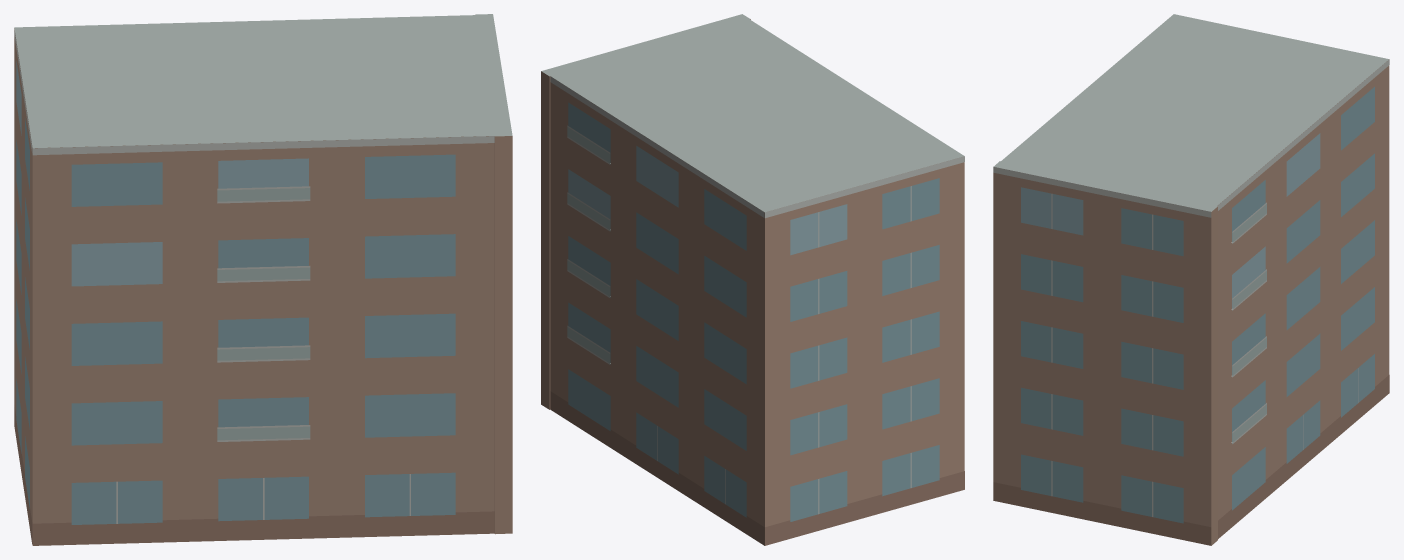
Rendered from survey-upis-32994430.glb.
The picture shows the model from 3 angles, left to right: view 1: azimuth 30°, elevation 25°; view 2: azimuth 150°, elevation 25°; view 3: azimuth 270°, elevation 25°; orthographic projection. The views are drawn at different scales.
Parts seen in each view (by area): view 1: survey-upis-32994430.tmp; view 2: survey-upis-32994430.tmp; view 3: survey-upis-32994430.tmp.
Boxes of the visible parts, left/top/right/bottom form: survey-upis-32994430.tmp: left=14, top=14, right=512, bottom=545; survey-upis-32994430.tmp: left=541, top=14, right=964, bottom=545; survey-upis-32994430.tmp: left=993, top=14, right=1389, bottom=545.
Bounding box in the file's own units: 17.42 × 13.7 × 14.73.
